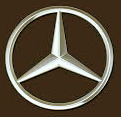Mercedes: (3, 2, 120, 115)
